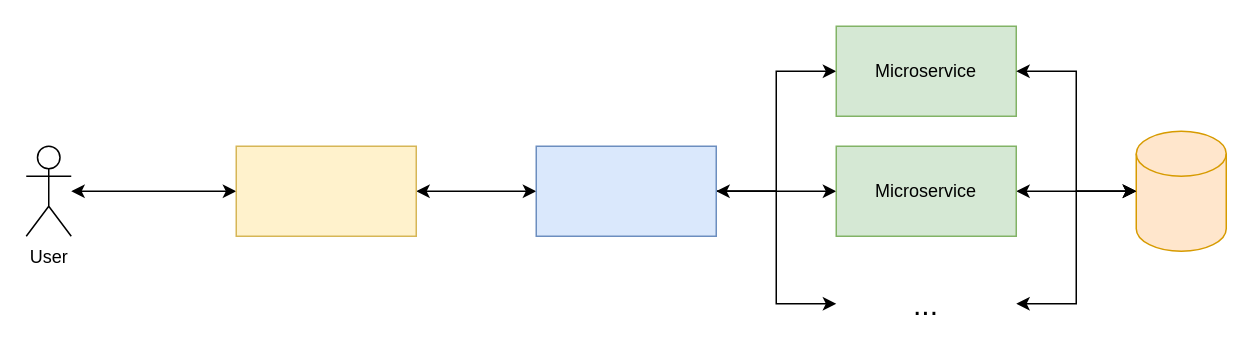
The diagram is 1253 pixels wide and 353 high, and some of its shapes have lost their labels. The centre of each missing label's shape, as x and y in pixels:
"Front-end layer" belongs at (x=325, y=190).
"Gateway" belongs at (x=625, y=190).
